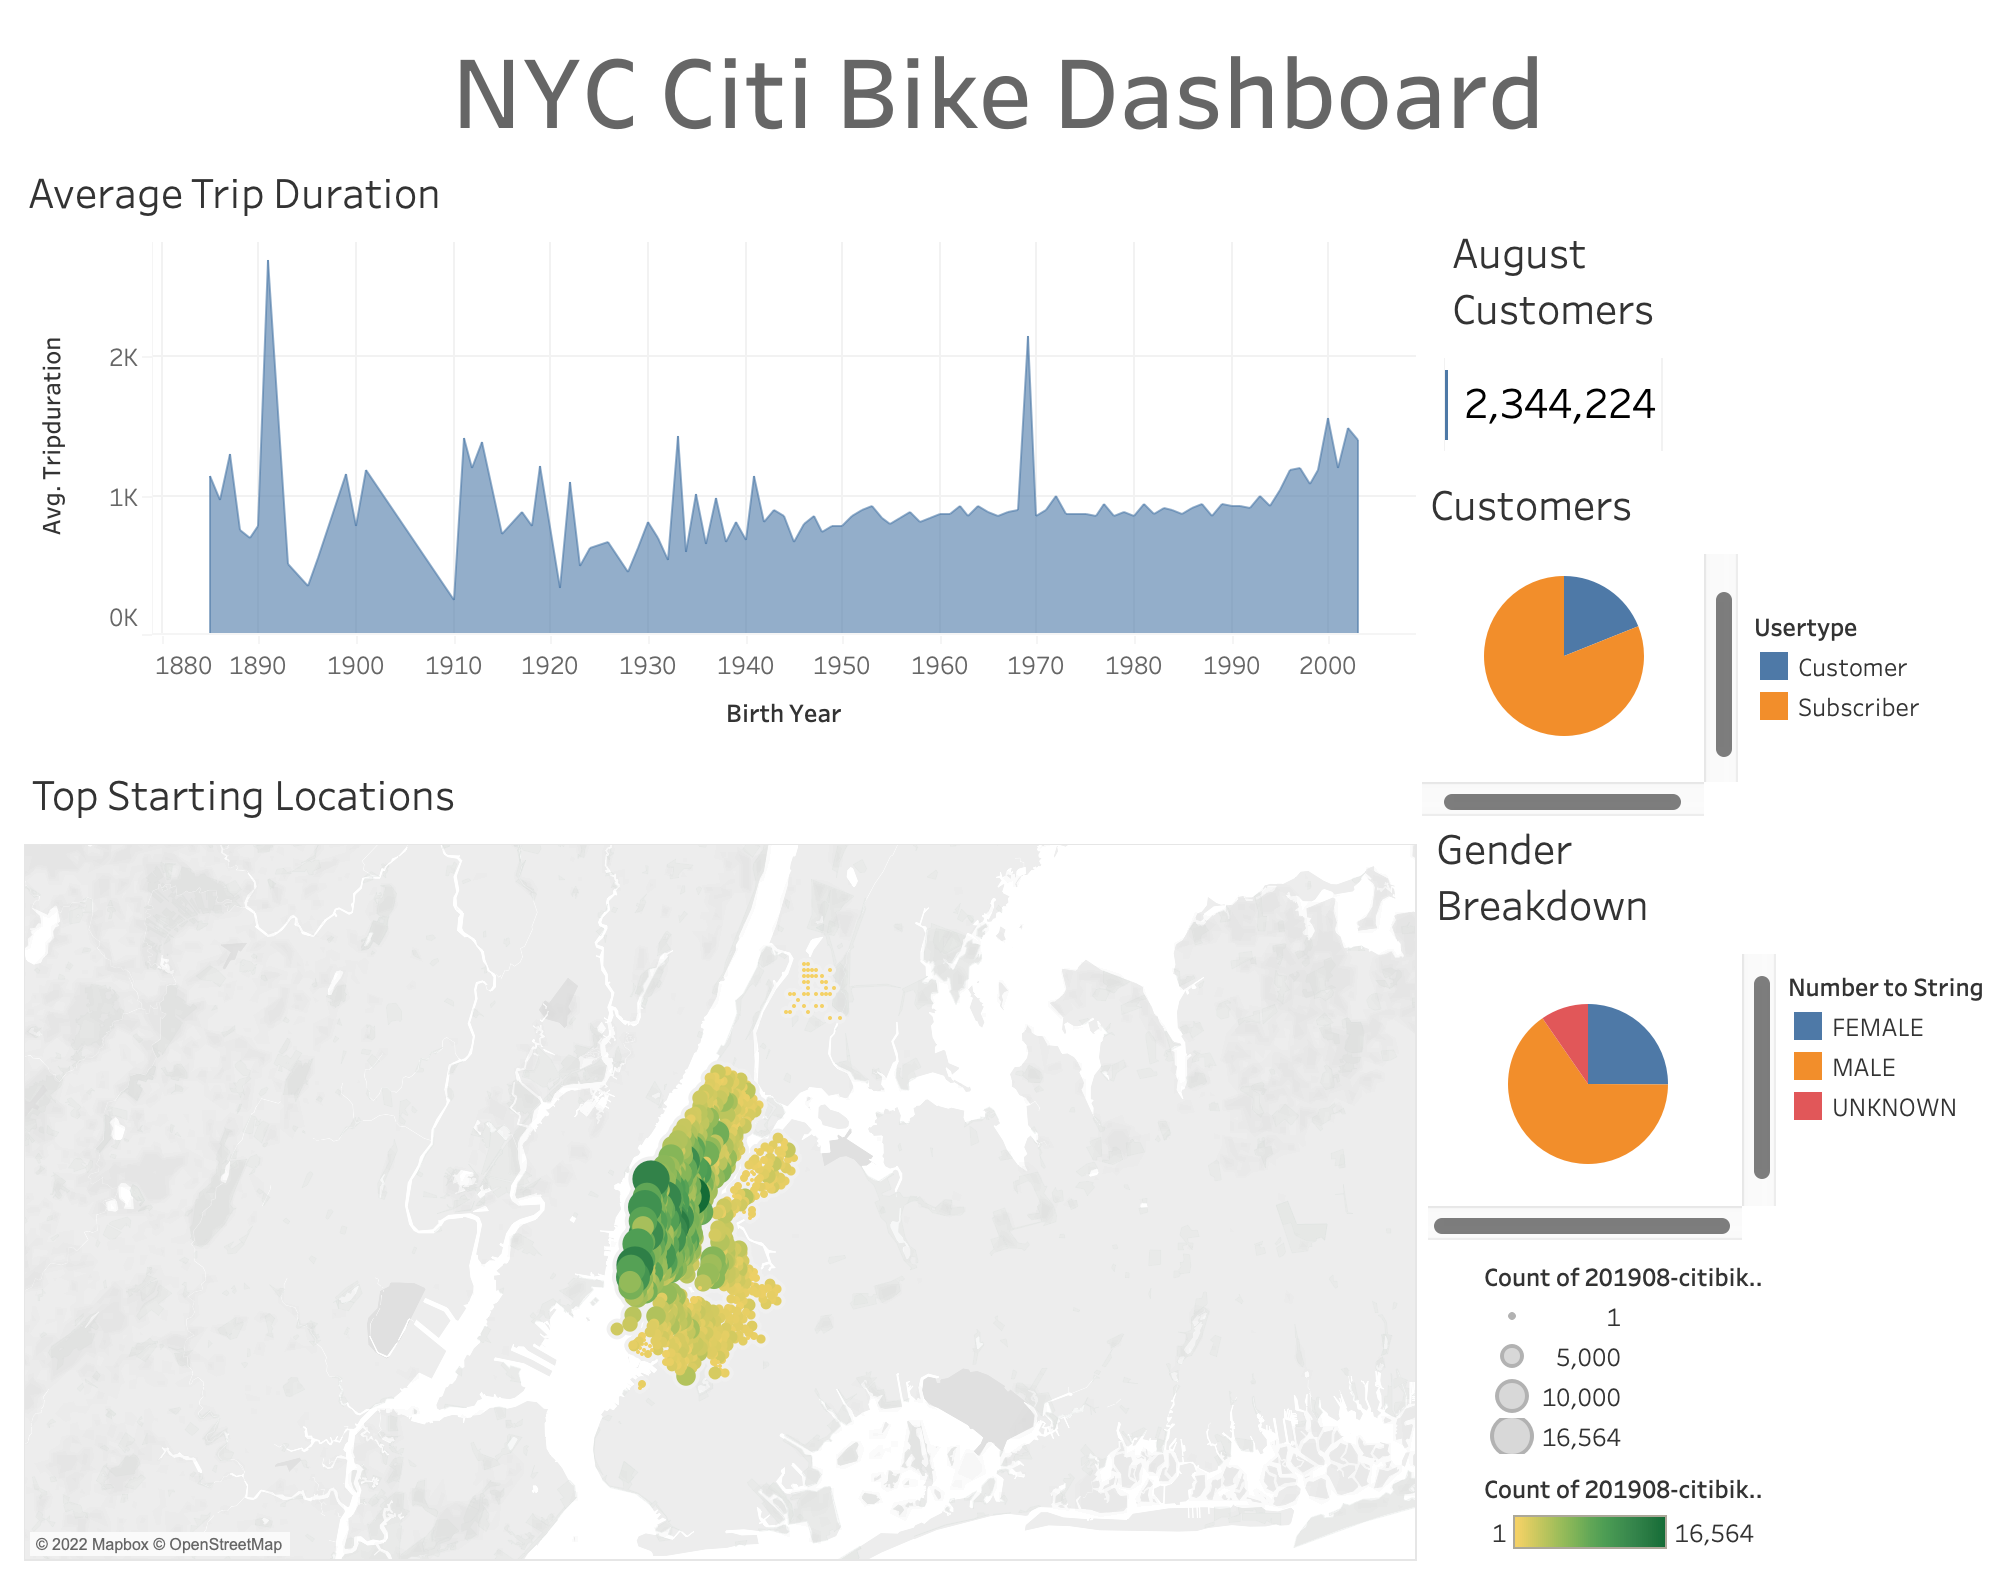

The page's visual inventory and layout, read from the dashboard file:
{"tool":"tableau","page":{"name":"NYC Citi Bike","canvas":[1000,800],"ordinal":0},"visuals":[{"type":"text","box":[226,24,553,50]},{"type":"worksheet","title":"Gender Breakdown","mark":"Pie","box":[802,76,174,214]},{"type":"worksheet","title":"Average Trip Duration","mark":"Area","rows":["tripduration"],"cols":["birth year"],"box":[13,82,775,294]},{"type":"legend","title":"Gender Breakdown","param":"[federated.1g8ao6k0am5nuc12uy0vh17vqdhy].[none:Calculation_2589217958668148736:n","box":[813,295,140,78]},{"type":"worksheet","title":"Top Starting Locations","mark":"Automatic","rows":["start station latitude"],"cols":["start station longitude"],"box":[15,383,772,402]},{"type":"legend","title":"Top Starting Locations","param":"[federated.1g8ao6k0am5nuc12uy0vh17vqdhy].[__tableau_internal_object_id__].[cnt:2","box":[795,595,140,105]},{"type":"legend","title":"Top Starting Locations","param":"[federated.1g8ao6k0am5nuc12uy0vh17vqdhy].[__tableau_internal_object_id__].[cnt:2","box":[796,709,140,76]}]}

Visuals, with their boxes in screenshot pixels (x1, y1, x2, y2), scaled from the page's 1000x800 canvas onto the 1992x1590 screenshot:
text: l=450, t=48, r=1552, b=147
"Gender Breakdown" worksheet (Pie marks): l=1598, t=151, r=1944, b=576
"Average Trip Duration" worksheet (Area marks): l=26, t=163, r=1570, b=747
"Gender Breakdown" legend: l=1619, t=586, r=1898, b=741
"Top Starting Locations" worksheet: l=30, t=761, r=1568, b=1560
"Top Starting Locations" legend: l=1584, t=1183, r=1863, b=1391
"Top Starting Locations" legend: l=1586, t=1409, r=1865, b=1560
